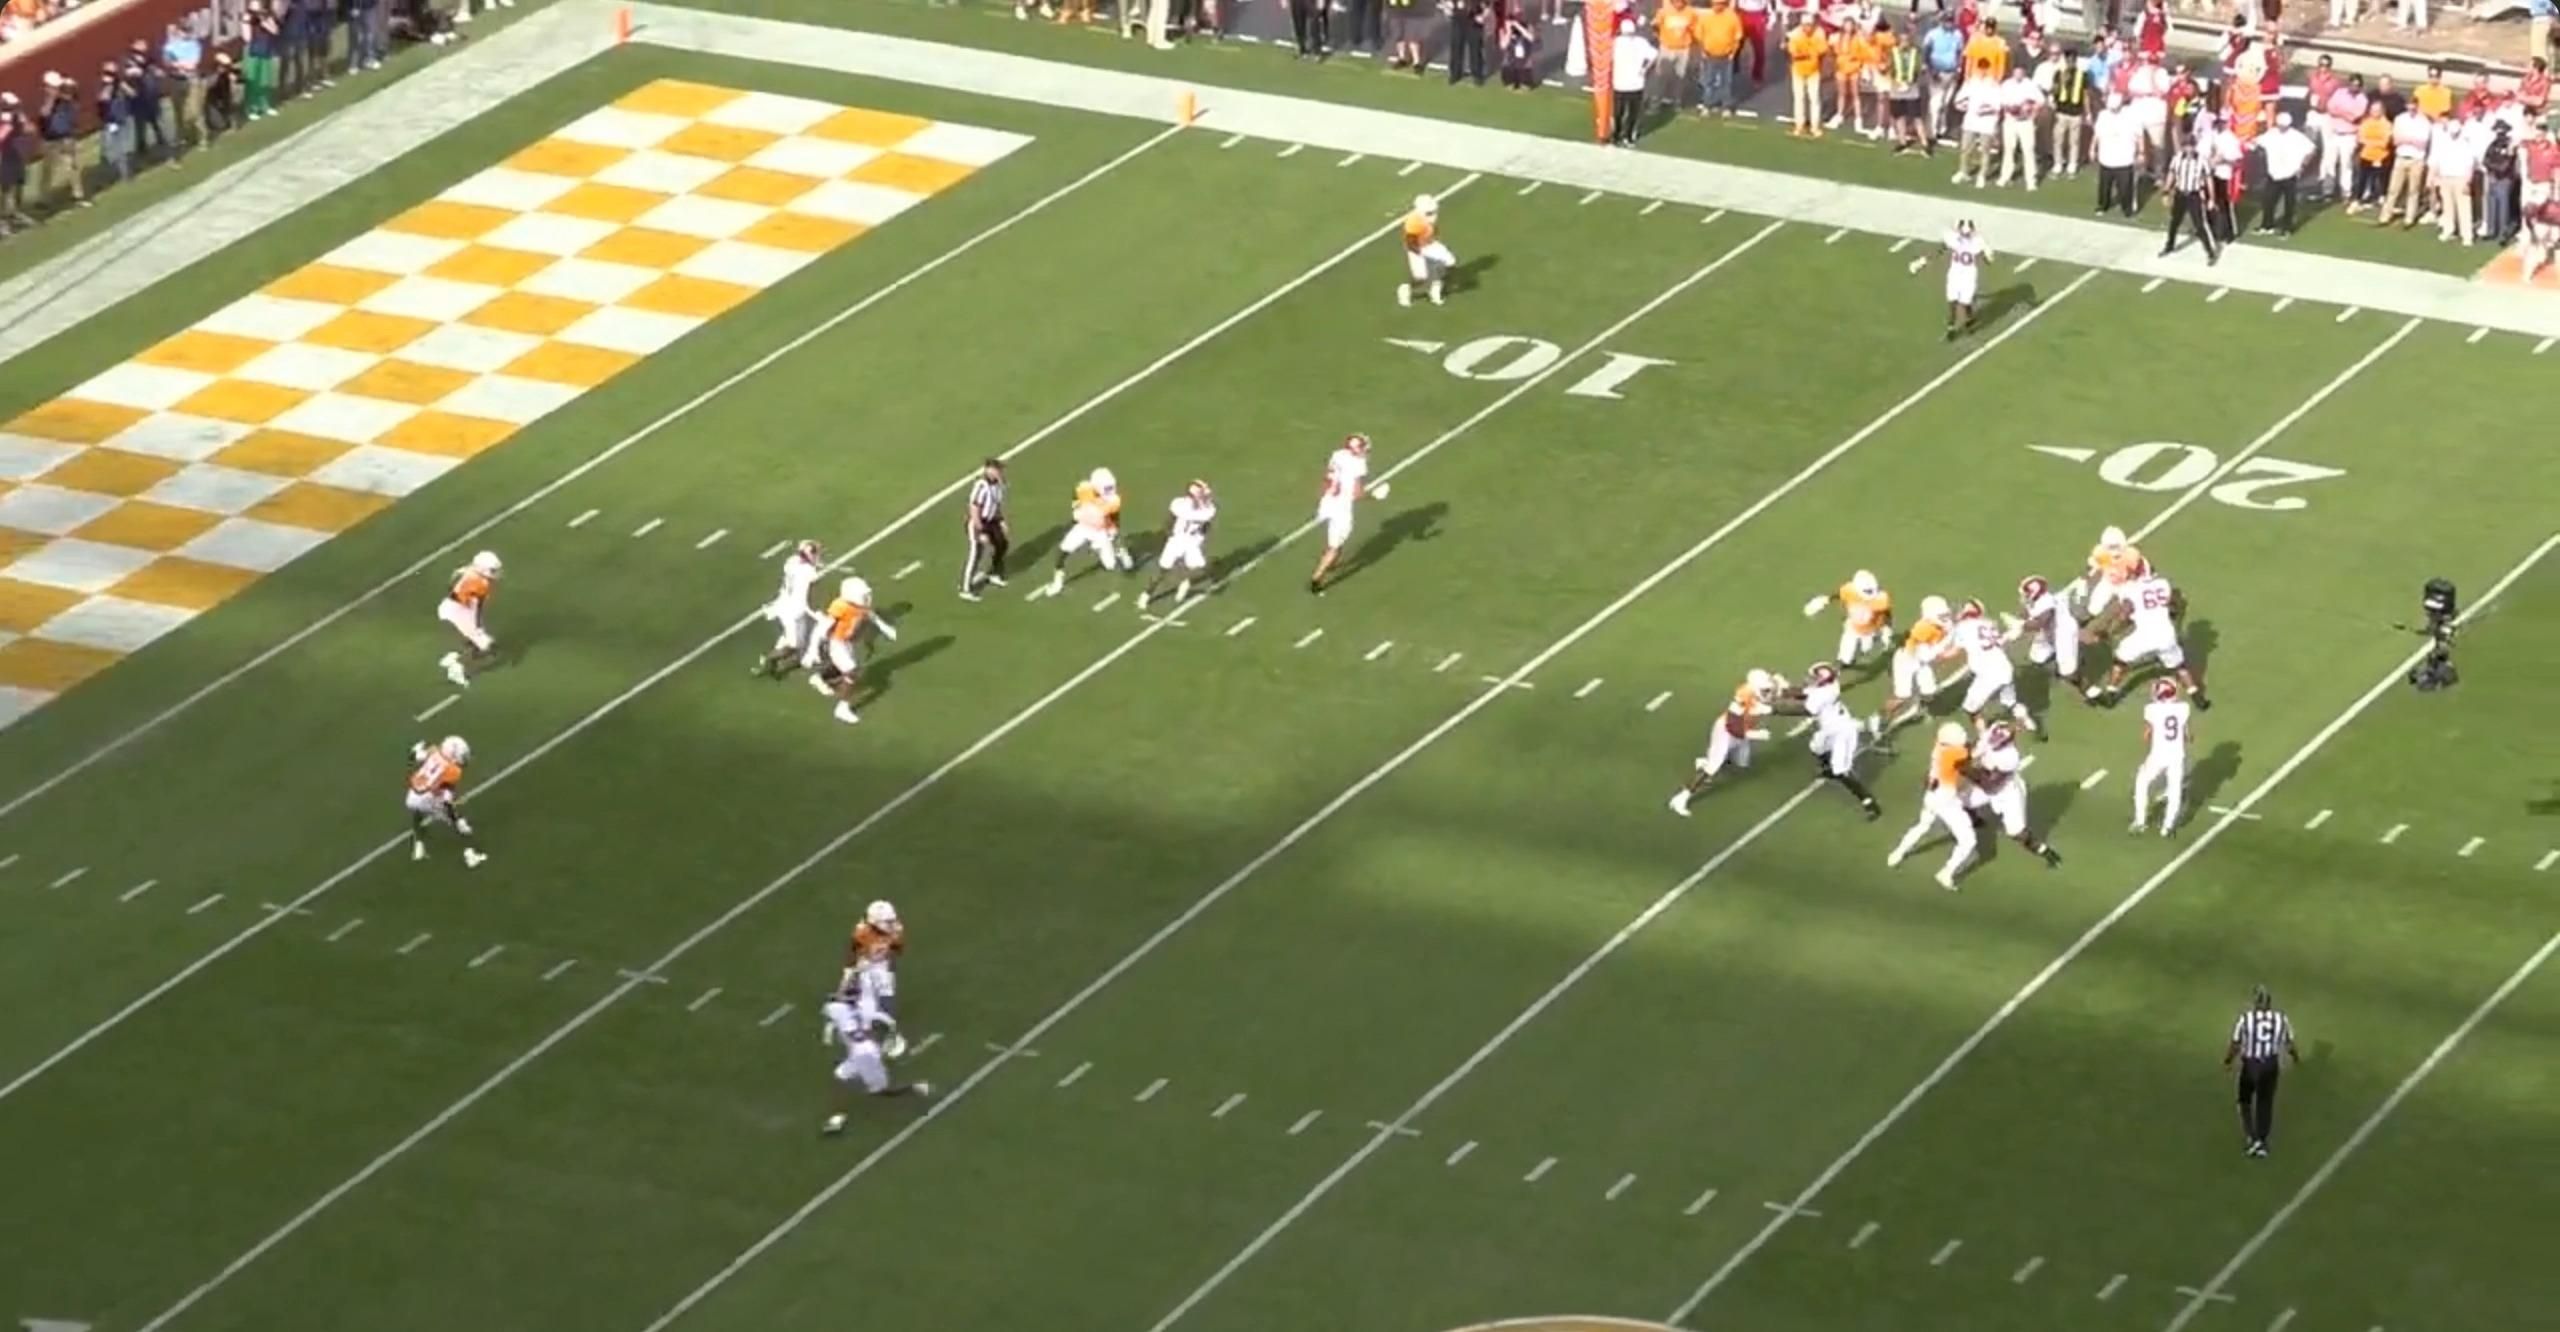defense: (1673, 661, 1791, 819), (1891, 723, 1991, 897), (817, 894, 912, 1066), (1872, 593, 1973, 747), (1040, 468, 1139, 603), (820, 573, 901, 730), (393, 736, 476, 876), (433, 552, 506, 695), (1811, 565, 1896, 675), (1400, 192, 1474, 312), (2069, 530, 2144, 632)
oline: (2089, 557, 2209, 705), (1935, 596, 2049, 737), (1963, 722, 2062, 883), (1778, 658, 1871, 819), (2020, 570, 2105, 704)
qb: (2121, 672, 2187, 835), (954, 458, 1018, 599)
ref: (2221, 987, 2306, 1166), (2154, 136, 2226, 276), (1597, 13, 1661, 153)
skill: (818, 972, 943, 1142), (1299, 432, 1384, 591), (1143, 483, 1229, 617), (1918, 219, 1997, 352), (747, 537, 818, 682)
